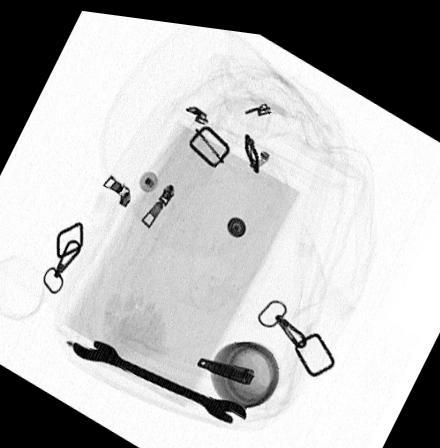Wrench: (70, 334, 247, 421)
